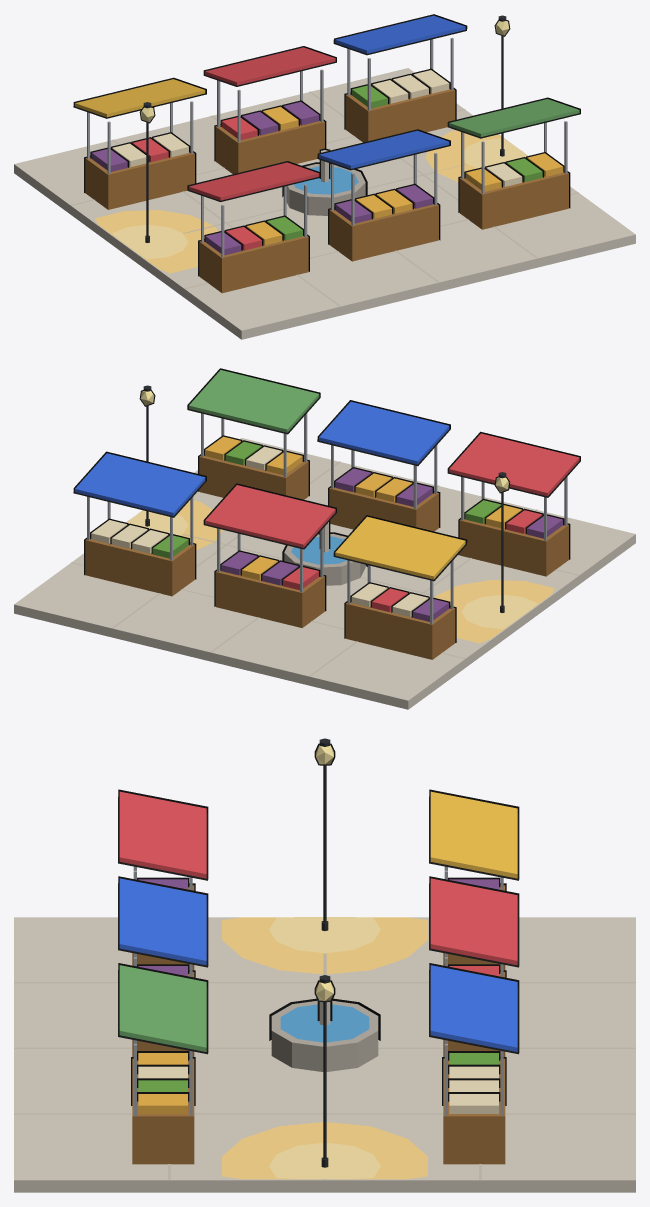
File: Park_cim_pazar.fbx
3 views of the same model, one above another, from view 1: azimuth 30°, elevation 25°; view 2: azimuth 150°, elevation 25°; view 3: azimuth 270°, elevation 25° (orthographic). The views are drawn at different scales.
Visible parts, largest first — view 1: Park_cim_pazar; view 2: Park_cim_pazar; view 3: Park_cim_pazar.
Part boxes in pixels (x1,y1,x2,y2): Park_cim_pazar: (14, 14, 635, 339); Park_cim_pazar: (14, 368, 635, 709); Park_cim_pazar: (14, 738, 635, 1192).
Bounding box in the file's own units: 10 × 3.58 × 10.
